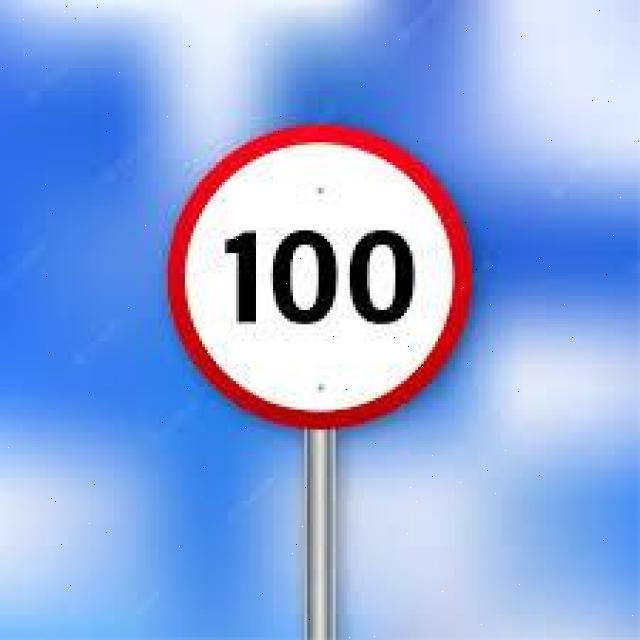speed limit 100: (167, 124, 471, 429)
